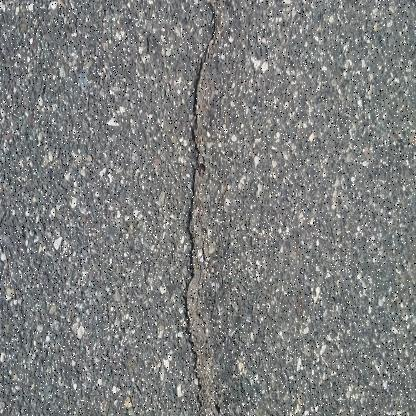Cracks: (176, 0, 229, 416)
